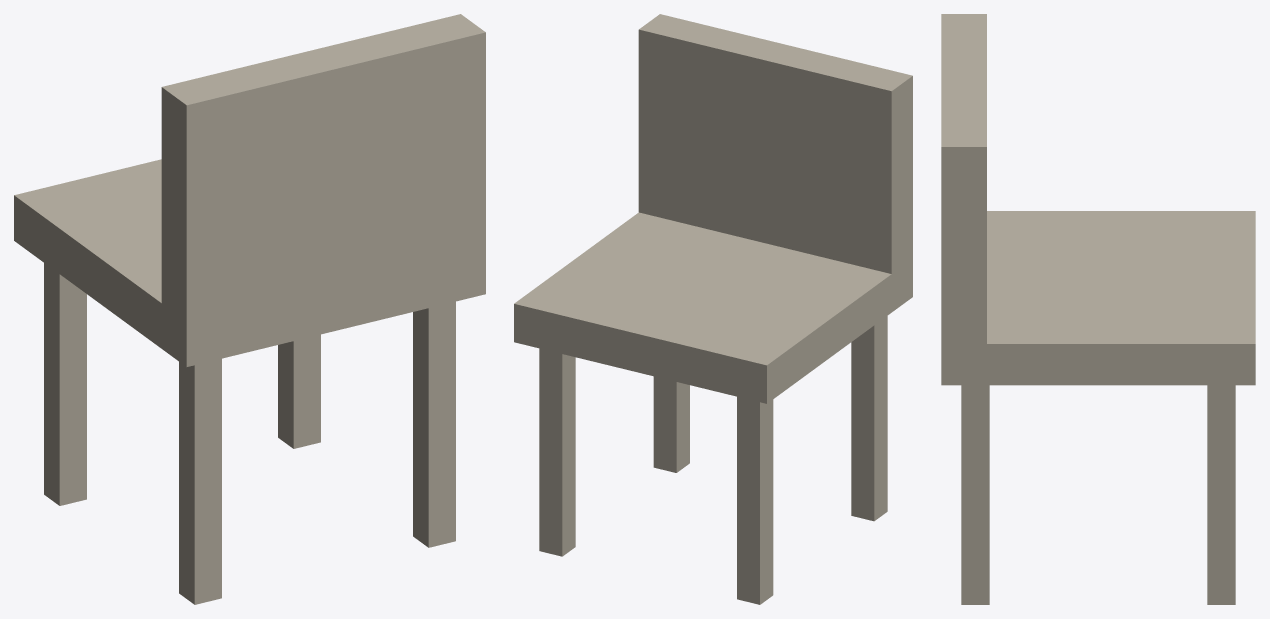
Rendered from chair.glb.
3 views of the same model, side by side, from view 1: azimuth 30°, elevation 25°; view 2: azimuth 150°, elevation 25°; view 3: azimuth 270°, elevation 25° (orthographic). The views are drawn at different scales.
Parts seen in each view (by area): view 1: back, seat, leg-11, leg11, leg-1-1, leg1-1; view 2: back, seat, leg-1-1, leg1-1, leg-11, leg11; view 3: seat, back, leg1-1, leg11.
Part boxes in pixels (x1,y1,x2,y2): back: (161,14,485,343); seat: (14,159,485,366); leg-11: (179,358,221,604); leg11: (413,301,455,547); leg-1-1: (44,263,86,505); leg1-1: (278,334,320,448); back: (638,14,912,292); seat: (514,212,912,403); leg-1-1: (737,396,773,604); leg1-1: (539,348,575,556); leg-11: (851,316,887,521); leg11: (653,376,689,472); seat: (941,211,1255,385); back: (941,14,986,364); leg1-1: (1207,385,1235,604); leg11: (961,385,989,604).
Size of the model in its own units: 0.55 by 0.9 by 0.55.
